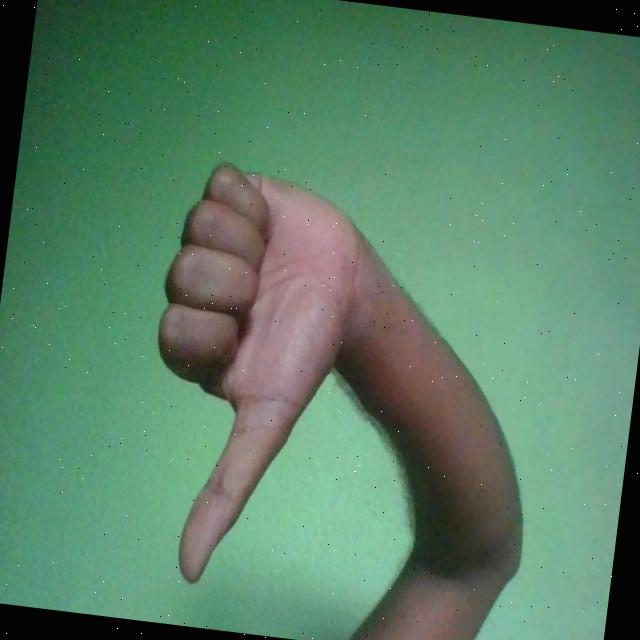Dislike: (129, 155, 376, 600)
